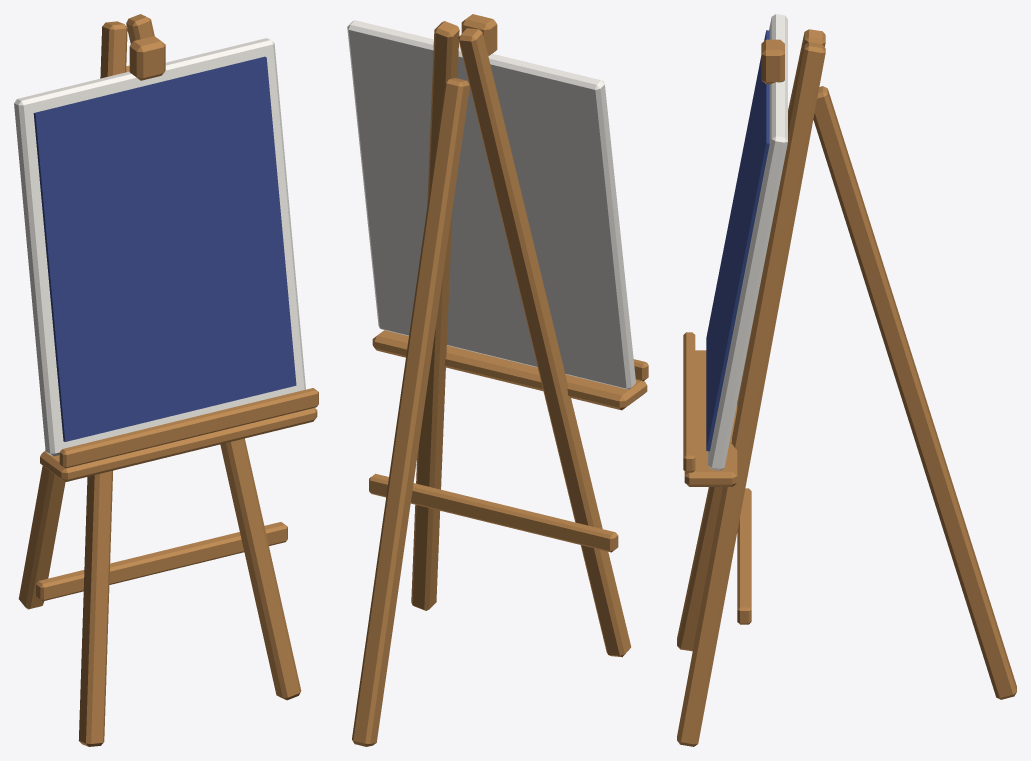
File: easel_with_canvas.glb
The picture shows the model from 3 angles, left to right: view 1: azimuth 30°, elevation 25°; view 2: azimuth 150°, elevation 25°; view 3: azimuth 270°, elevation 25°; orthographic projection.
Visible parts, largest first — view 1: easel_with_canvas; view 2: easel_with_canvas; view 3: easel_with_canvas.
Boxes of the visible parts, box(x1,y1,x2,y2) form: easel_with_canvas: box(14, 14, 318, 746); easel_with_canvas: box(347, 14, 648, 746); easel_with_canvas: box(677, 14, 1016, 746).
Bounding box in the file's own units: 0.62 × 1.52 × 0.7102.
